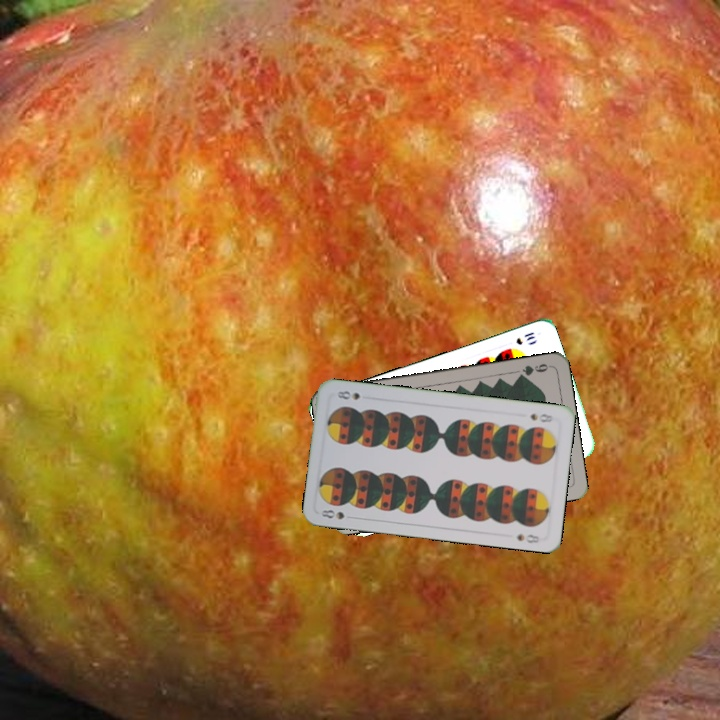G9: (514, 359, 553, 381)
S10: (512, 328, 538, 347)
S8: (317, 506, 357, 522), (526, 409, 557, 425)
